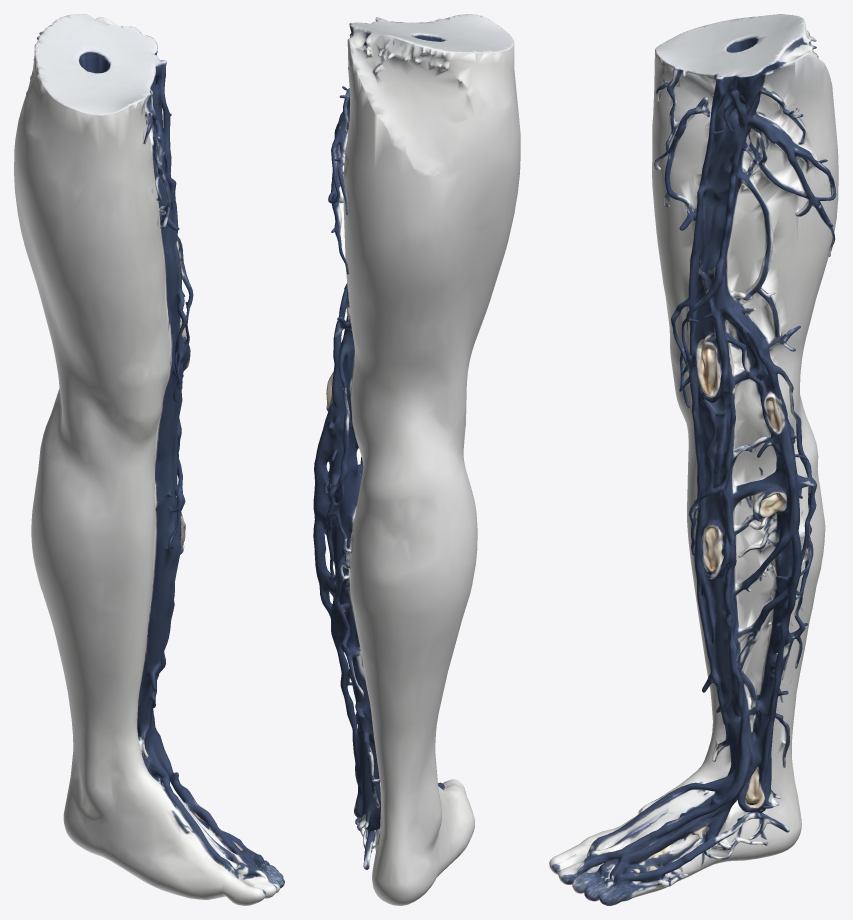
File: leg-veins.glb
3 views of the same model, side by side, from view 1: azimuth 30°, elevation 25°; view 2: azimuth 150°, elevation 25°; view 3: azimuth 270°, elevation 25° (orthographic). The views are drawn at different scales.
Parts seen in each view (by area): view 1: tripo_node_62f25118-45d0-4976-86ca-ff073267c7a0; view 2: tripo_node_62f25118-45d0-4976-86ca-ff073267c7a0; view 3: tripo_node_62f25118-45d0-4976-86ca-ff073267c7a0.
Boxes of the visible parts, x1=… form: tripo_node_62f25118-45d0-4976-86ca-ff073267c7a0: x1=14, y1=14, x2=284, y2=905; tripo_node_62f25118-45d0-4976-86ca-ff073267c7a0: x1=313, y1=14, x2=520, y2=905; tripo_node_62f25118-45d0-4976-86ca-ff073267c7a0: x1=549, y1=14, x2=838, y2=905.
Size of the model in its own units: 0.2446 by 1 by 0.3168.
Materials: 1 (1 with a texture image).
